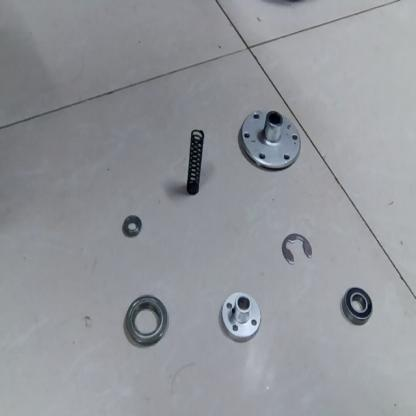FOD: (237, 106, 304, 175), (120, 295, 170, 350), (217, 291, 263, 346), (185, 126, 208, 197), (338, 285, 373, 329), (279, 234, 314, 268), (120, 212, 143, 240)
